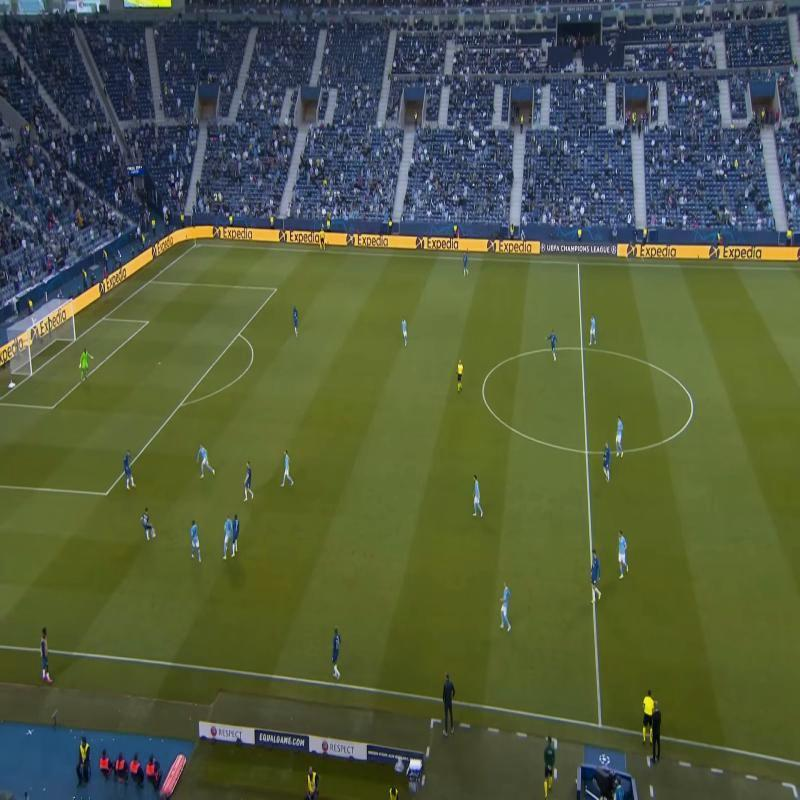1: (188, 238, 203, 253)
10: (232, 327, 246, 341)
11: (174, 398, 188, 412)
12: (99, 488, 113, 501)
13: (570, 256, 585, 270)
14: (575, 342, 589, 356)
15: (580, 445, 594, 459)
16: (593, 718, 608, 734)
2: (143, 275, 158, 289)
3: (98, 312, 110, 326)
7: (141, 315, 155, 329)
8: (45, 401, 60, 416)
9: (270, 282, 284, 296)
c: (687, 399, 702, 415), (478, 380, 492, 396)
